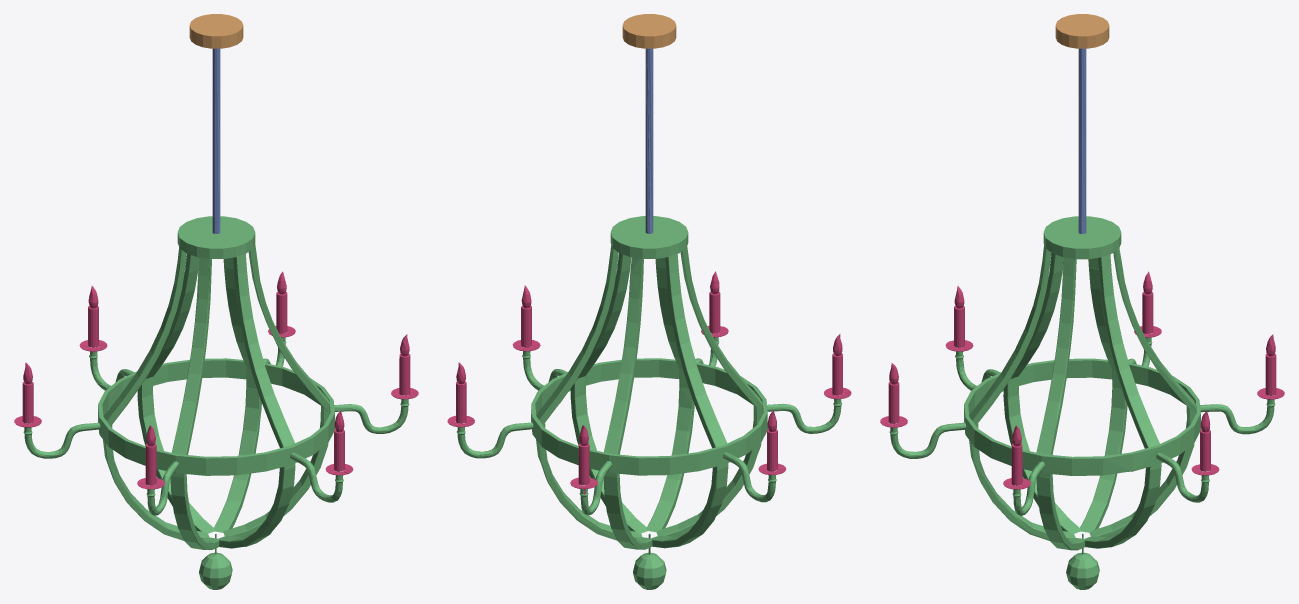
File: full_4_coarse.glb
3 renders of one model, left to right at view 1: azimuth 30°, elevation 25°; view 2: azimuth 150°, elevation 25°; view 3: azimuth 270°, elevation 25°, orthographic.
Visible parts, largest first — view 1: world; view 2: world; view 3: world.
Part boxes in pixels (x1,y1,x2,y2): world: [14, 14, 418, 589]; world: [447, 14, 851, 589]; world: [880, 14, 1284, 589].
Size of the model in its own units: 0.4629 by 0.7432 by 0.4831.
